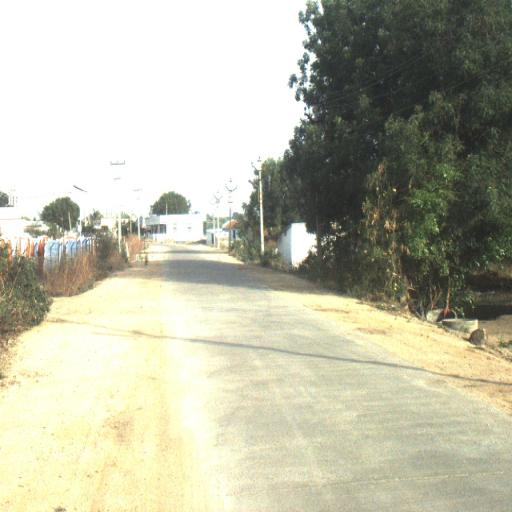street_light_0: (248, 180, 264, 202)
